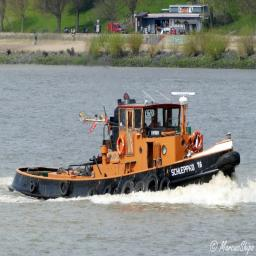tugboat: (7, 86, 244, 208)
